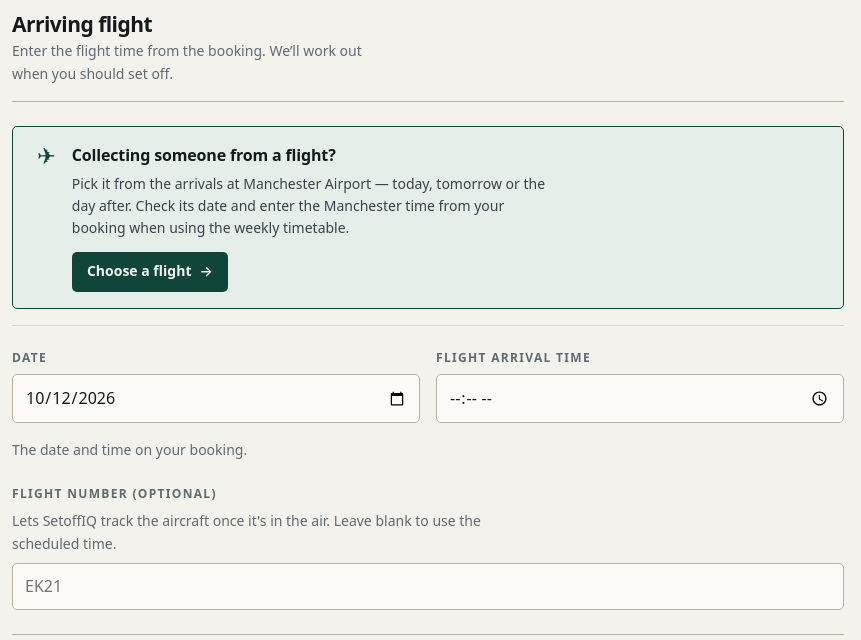
Test: the timetable, when the schedule has nothing to say › selects a timetabled flight but requires the booking time
Click the button "Collecting someone from a flight".
click(428, 217)  # box [12, 126, 844, 309]
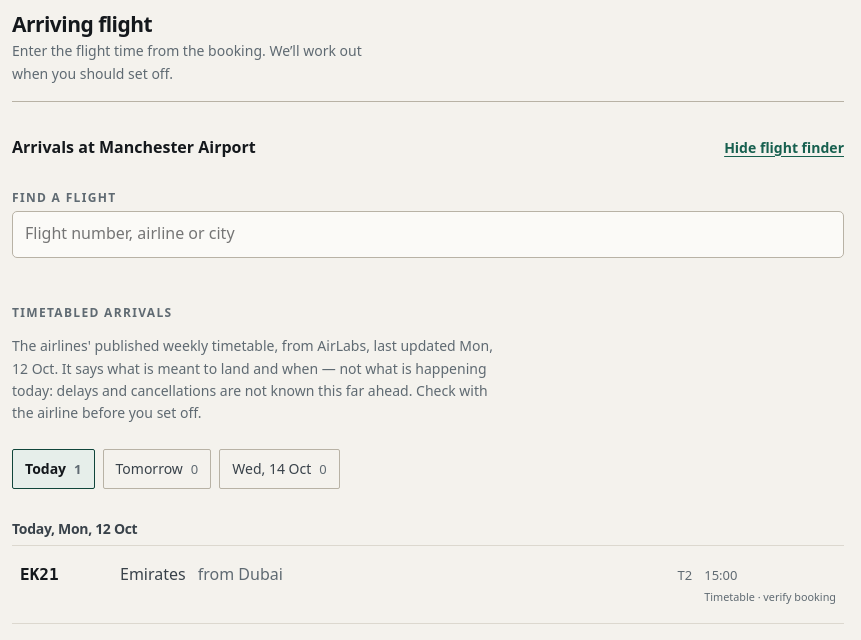
Click the button "EK21 Emirates from Dubai T2 15:00Timetable · verify booking".
click(39, 575)  # box [12, 546, 844, 624]
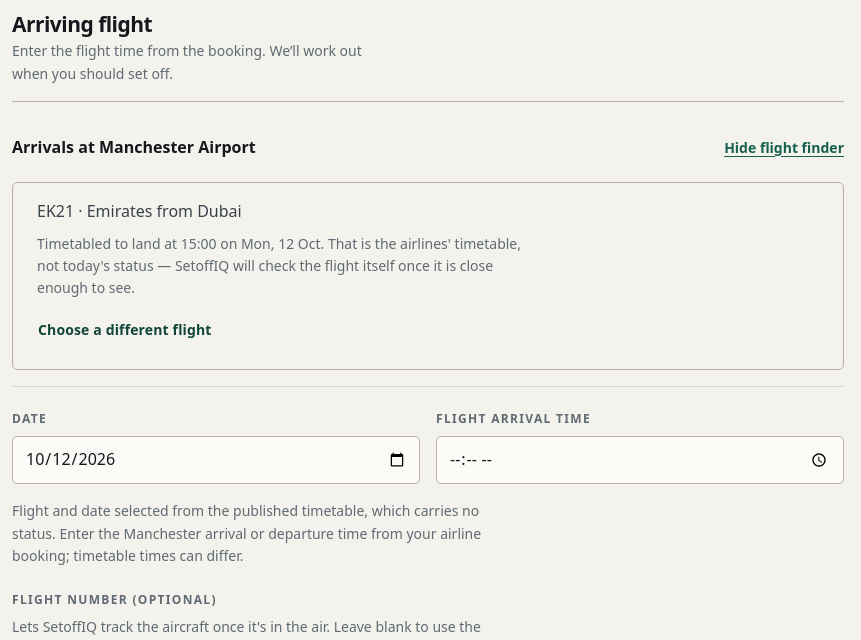
Expected: the time field labelled "Flight arrival time" is empty, [436, 436, 844, 484]
Result: the text "published timetable, which carries no status" is shown at [12, 501, 481, 565]
